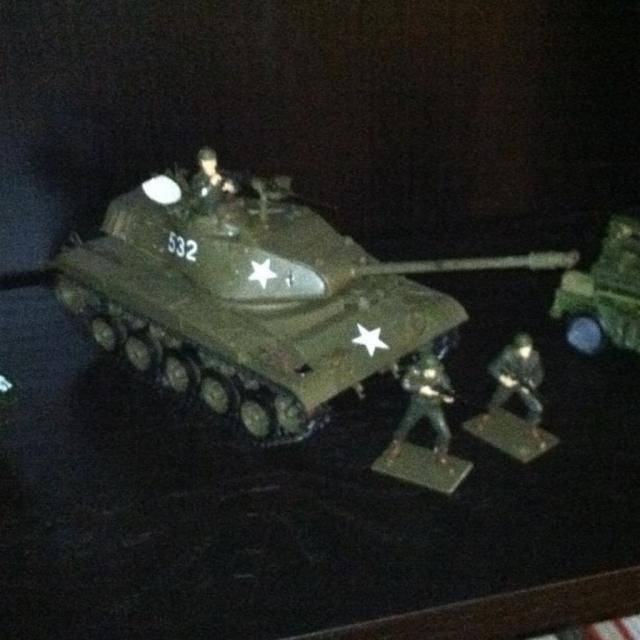tank: (45, 160, 581, 448)
